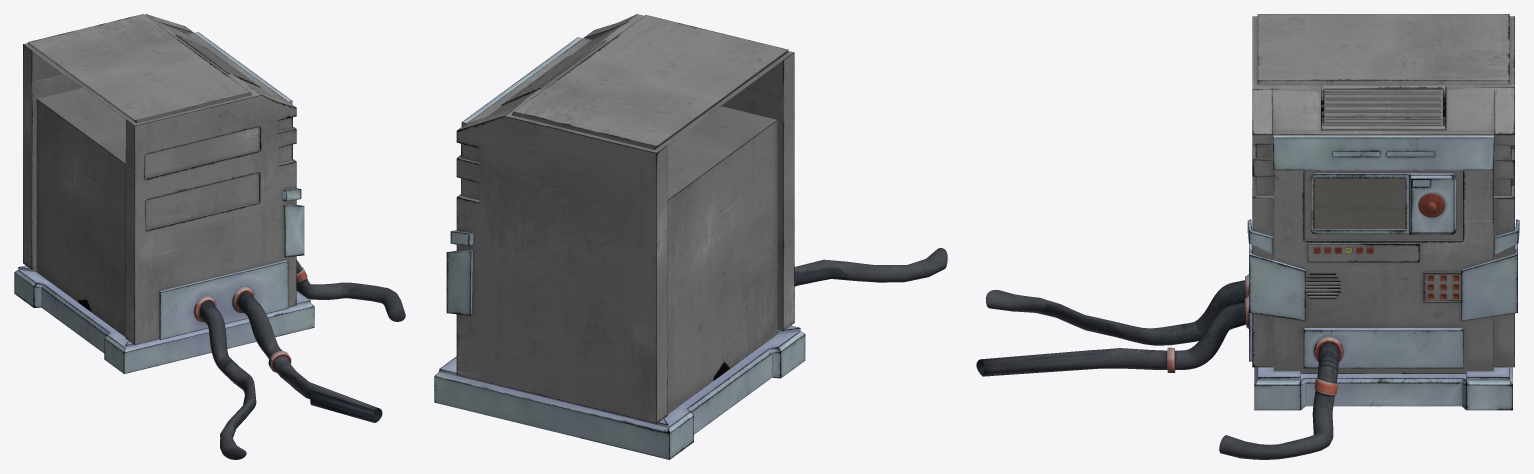
File: industrial_control_panel_box.glb
3 views of the same model, side by side, from view 1: azimuth 30°, elevation 25°; view 2: azimuth 150°, elevation 25°; view 3: azimuth 270°, elevation 25° (orthographic). The views are drawn at different scales.
Parts seen in each view (by area): view 1: Cube.001; view 2: Cube.001; view 3: Cube.001.
Part boxes in pixels (x1,y1,x2,y2): Cube.001: (14,14,405,459); Cube.001: (434,14,947,459); Cube.001: (976,14,1519,459).
Size of the model in its own units: 1148 by 976 by 1594.
Materials: 5 (5 with a texture image).
